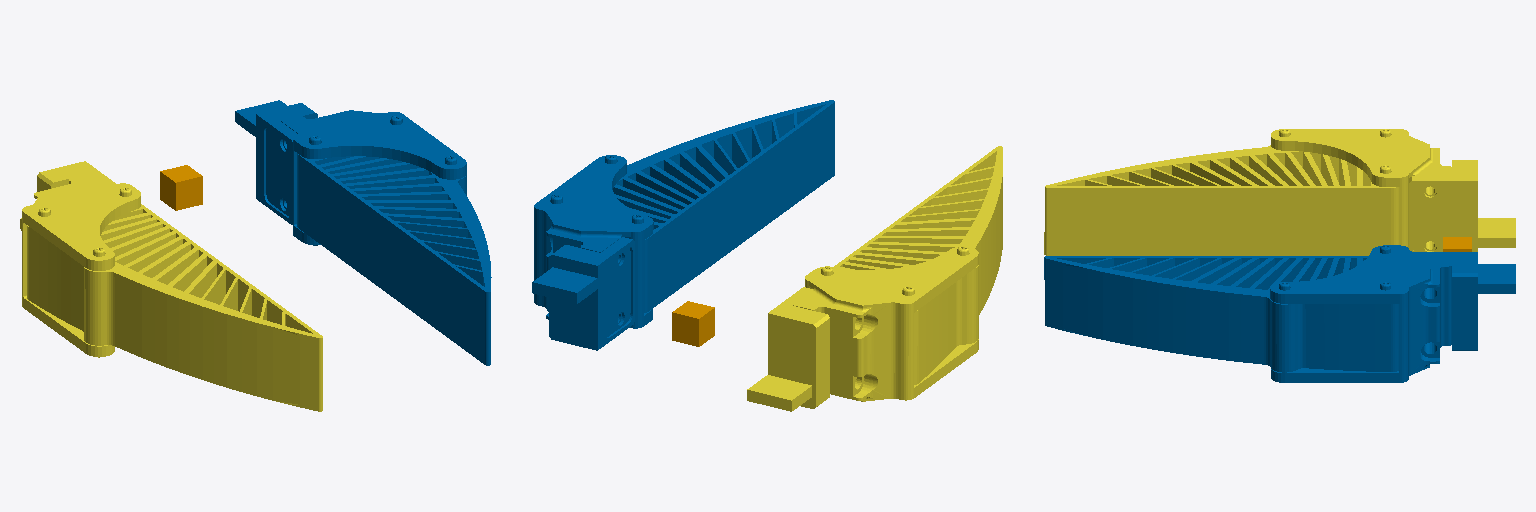
robot.urdf — tri_finray_gripper:
<?xml version="1.0" encoding="utf-8"?>
<robot name="tri_finray_gripper">
  <link name="base_link">
    <visual>
      <origin rpy="0 0 0" xyz="0 0 0"/>
      <geometry>
        <box size="0.01 0.01 0.01"/>
      </geometry>
    </visual>
  </link>
  <link name="finger_holder_left">
    <!-- <visual>
      <origin rpy="0 0 0" xyz="0 0 0"/>
      <geometry>
        <mesh filename="package://blender_models/tri_finray_gripper/meshes/wsg50_mount-finger_holder_left.obj" scale="0.001 0.001 0.001"/>
      </geometry>
      <material name="gray"/>
    </visual> -->
    <collision>
      <geometry>
        <box size="0.04 0.06979999499999999 0.038"/>
      </geometry>
      <origin rpy="0.0 -0.0 0.0" xyz="-0.02 -0.11160000249999999 0.0"/>
    </collision>
  </link>
  <link name="finger_holder_right">
    <!-- <visual>
      <origin rpy="0 0 0" xyz="0 0 0"/>
      <geometry>
        <mesh filename="package://blender_models/tri_finray_gripper/meshes/wsg50_mount-finger_holder_right.obj" scale="0.001 0.001 0.001"/>
      </geometry>
      <material name="gray"/>
    </visual> -->
    <collision>
      <geometry>
        <box size="0.04 0.06979999499999999 0.038"/>
      </geometry>
      <origin rpy="0.0 -0.0 0.0" xyz="0.02 -0.11160000249999999 0.0"/>
    </collision>
  </link>
  <link name="soft_finger_left">
    <visual>
      <origin rpy="0 0 0" xyz="0 0 0"/>
      <geometry>
        <!-- <mesh filename="package://blender_models/tri_finray_gripper/meshes/soft_gripper_finger.obj" scale="0.001 0.001 0.001"/> -->
        <mesh filename="package://blender_models/tri_finray_gripper/meshes/one_piece_wide_grasp_finray_finger.obj" scale="1 1 1"/>
      </geometry>
    </visual>
    <collision>
      <geometry>
        <box size="0.039999924 0.025800001000000003 0.123364487"/>
      </geometry>
      <origin rpy="0.0 -0.0 0.0" xyz="0.019999962 -0.012900000500000001 -0.0616822435"/>
    </collision>
  </link>
  <link name="soft_finger_right">
    <visual>
      <origin rpy="0 0 0" xyz="0 0.0 0"/>
      <geometry>
        <!-- <mesh filename="package://blender_models/tri_finray_gripper/meshes/soft_gripper_finger.obj" scale="0.001 0.001 0.001"/> -->
        <mesh filename="package://blender_models/tri_finray_gripper/meshes/one_piece_wide_grasp_finray_finger.obj" scale="1 1 1"/>
      </geometry>
    </visual>
    <collision>
      <geometry>
        <box size="0.039999924 0.025800001000000003 0.123364487"/>
      </geometry>
      <origin rpy="0.0 -0.0 0.0" xyz="0.019999962 -0.012900000500000001 -0.0616822435"/>
    </collision>
  </link>
  <joint name="base_to_left_holder" type="fixed">
    <parent link="base_link"/>
    <child link="finger_holder_left"/>
    <origin rpy="0 0 0" xyz="-0.03 0.08 0"/>
  </joint>
  <joint name="base_to_right_holder" type="fixed">
    <parent link="base_link"/>
    <child link="finger_holder_right"/>
    <origin rpy="0 0 0" xyz="0.03 0.08 0"/>
  </joint>
  <joint name="left_holder_to_finger" type="fixed">
    <parent link="finger_holder_left"/>
    <child link="soft_finger_left"/>
    <origin rpy="-1.57 3.14 0" xyz="0.0 -0.1 0.012"/>
  </joint>
  <joint name="right_holder_to_finger" type="fixed">
    <parent link="finger_holder_right"/>
    <child link="soft_finger_right"/>
    <origin rpy="-1.57 0 0" xyz="0.0 -0.1 -0.012"/>
  </joint>
</robot>

--- Facts derived from the render (not from the file) ---
Views: 3 orthographic renders of the robot side by side, from view 1: azimuth 30°, elevation 25°; view 2: azimuth 150°, elevation 25°; view 3: azimuth 270°, elevation 25°.
Model tri_finray_gripper with 5 links and 4 joints (4 fixed), rooted at base_link, posed every joint at zero.
Visible links, largest first — view 1: soft_finger_left, soft_finger_right, base_link; view 2: soft_finger_right, soft_finger_left, base_link; view 3: soft_finger_right, soft_finger_left.
Link boxes in pixels (left/top/right/bottom): soft_finger_left: left=20, top=161, right=322, bottom=411; soft_finger_right: left=235, top=100, right=491, bottom=365; base_link: left=160, top=165, right=202, bottom=210; soft_finger_right: left=532, top=100, right=834, bottom=350; soft_finger_left: left=747, top=146, right=1002, bottom=411; base_link: left=672, top=301, right=714, bottom=346; soft_finger_right: left=1044, top=245, right=1515, bottom=382; soft_finger_left: left=1044, top=129, right=1515, bottom=255.
Size in the robot's own frame: 0.14 by 0.1634 by 0.0396 metres.
Meshes: 1 distinct files referenced, 2 mesh visuals loaded (1 OBJ).
